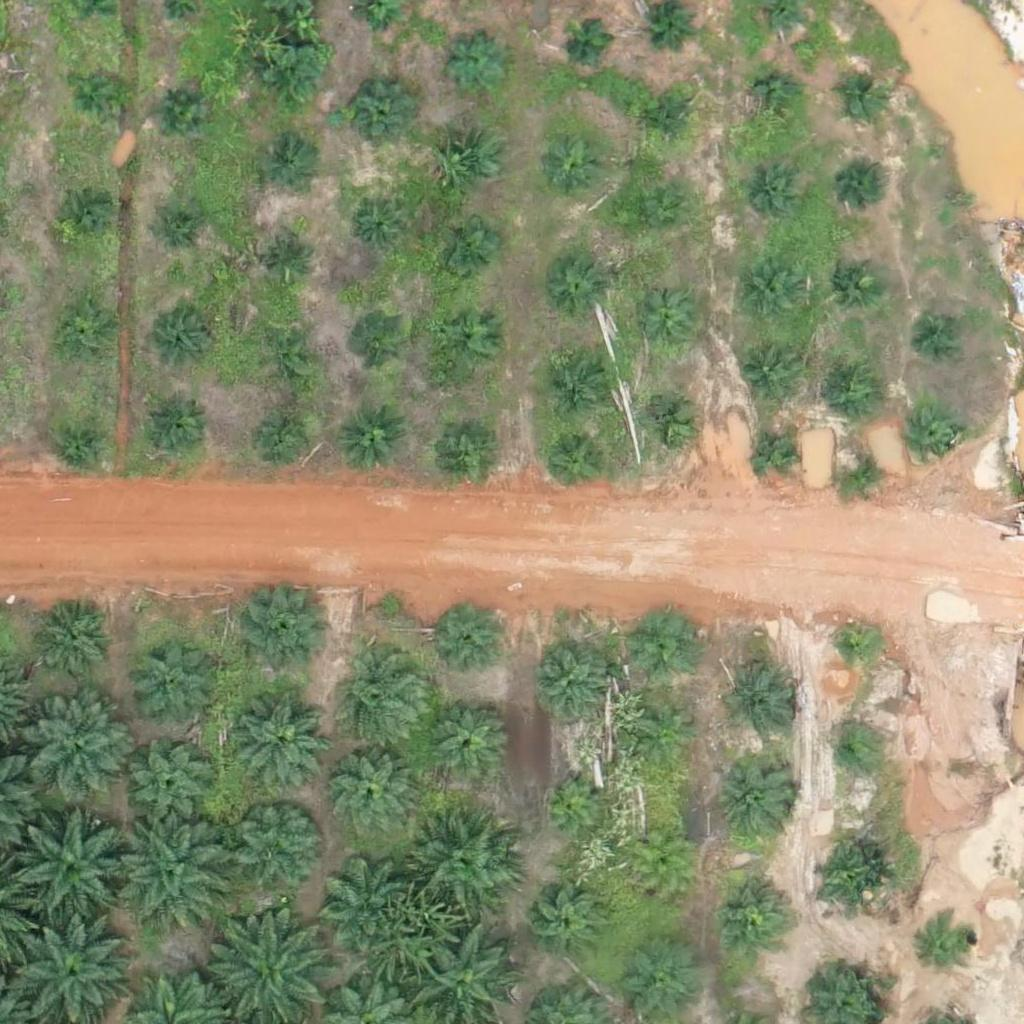Kelapa_Sawit: (114, 802, 239, 928), (8, 806, 133, 932), (23, 690, 136, 803), (411, 814, 511, 914), (333, 650, 433, 750), (228, 683, 328, 783), (234, 800, 322, 888), (242, 584, 330, 672), (123, 740, 211, 828), (331, 750, 418, 839), (319, 857, 406, 945), (530, 639, 617, 727), (425, 696, 512, 784), (122, 640, 209, 728), (720, 661, 795, 737), (430, 606, 505, 682), (811, 842, 886, 918), (720, 758, 795, 834), (528, 885, 603, 960), (36, 605, 111, 680), (712, 876, 787, 951), (624, 188, 687, 251), (739, 164, 802, 227), (351, 81, 414, 144), (338, 408, 401, 471), (737, 261, 800, 324), (147, 391, 210, 454), (58, 298, 121, 361), (48, 409, 111, 472), (434, 306, 497, 369), (432, 413, 495, 476), (348, 313, 411, 376), (544, 430, 607, 493), (633, 611, 696, 674), (824, 357, 887, 420), (738, 342, 801, 405), (629, 833, 692, 896), (54, 188, 117, 250), (435, 220, 497, 283), (546, 135, 608, 198), (445, 33, 507, 96), (548, 352, 610, 415), (260, 326, 322, 389), (545, 256, 607, 319), (639, 707, 701, 770), (634, 294, 696, 357), (639, 392, 701, 455), (824, 252, 886, 315), (918, 914, 980, 977), (263, 46, 325, 109), (441, 133, 503, 196), (255, 408, 317, 470), (538, 773, 600, 835), (151, 313, 213, 375), (751, 427, 801, 478), (837, 448, 887, 499), (158, 214, 208, 264), (260, 146, 310, 196), (268, 239, 318, 289), (351, 202, 401, 252), (154, 86, 204, 136), (840, 163, 890, 213), (565, 19, 615, 69), (72, 66, 122, 116), (750, 74, 800, 124), (836, 73, 886, 123), (908, 414, 958, 464), (918, 309, 968, 359), (830, 622, 880, 672), (826, 729, 876, 779), (644, 98, 694, 148)
